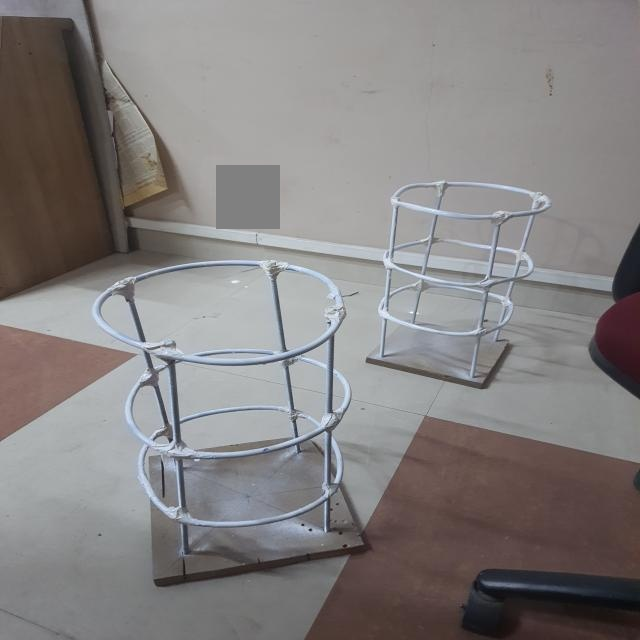silo: (98, 256, 362, 582), (377, 176, 552, 396)
